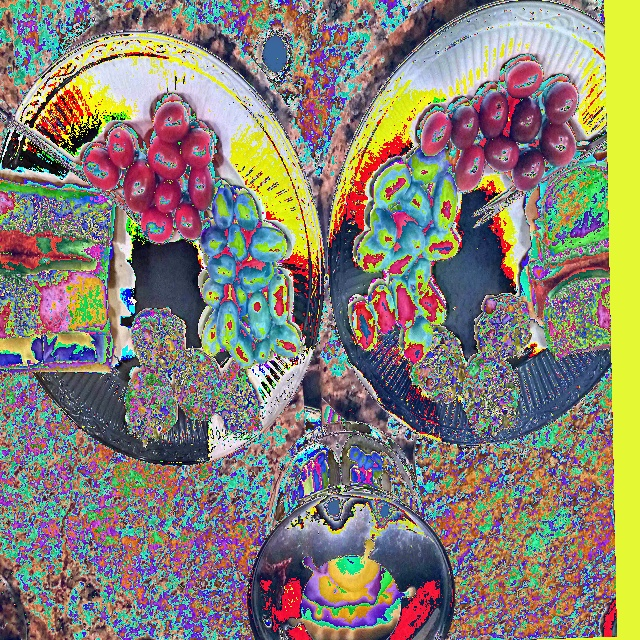background: (128, 100, 416, 639), (228, 61, 579, 438), (83, 161, 610, 362), (82, 101, 300, 448), (0, 181, 115, 374)
